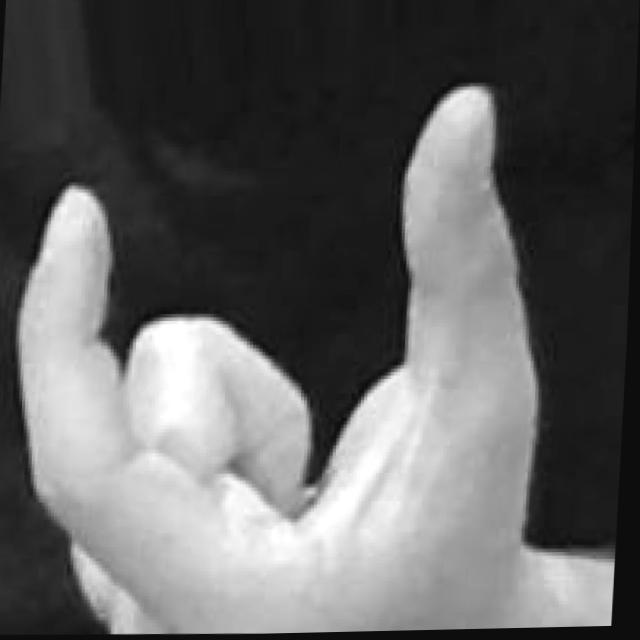U: (0, 66, 559, 640)
